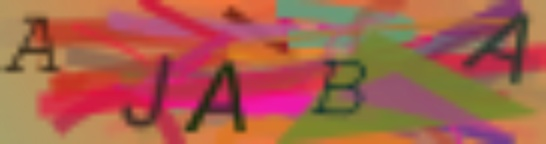A: (460, 9, 534, 88), (182, 56, 249, 136), (4, 13, 61, 77)
B: (310, 57, 369, 117)
J: (117, 52, 174, 131)
